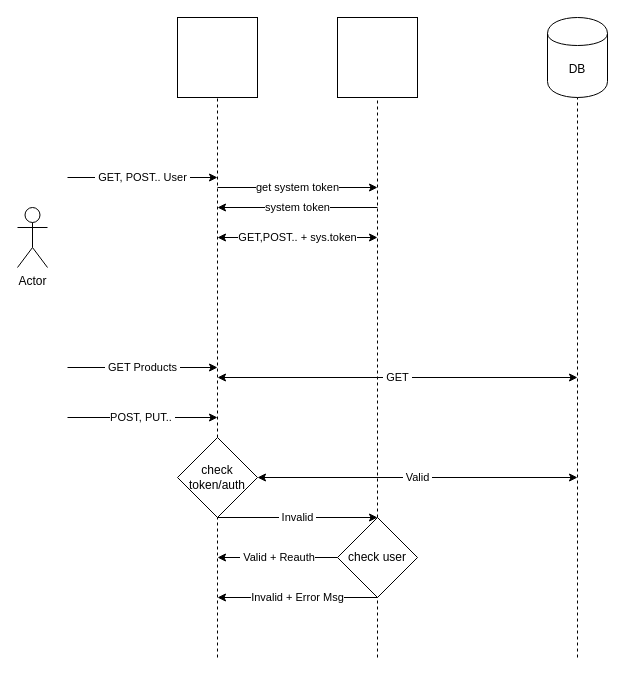
The diagram is 625 pixels wide and 676 high, and some of its shapes have lost their labels. Each missing label, with the centre of its shape:
"Application" belongs at (217,57).
"Auth0" belongs at (377,57).
